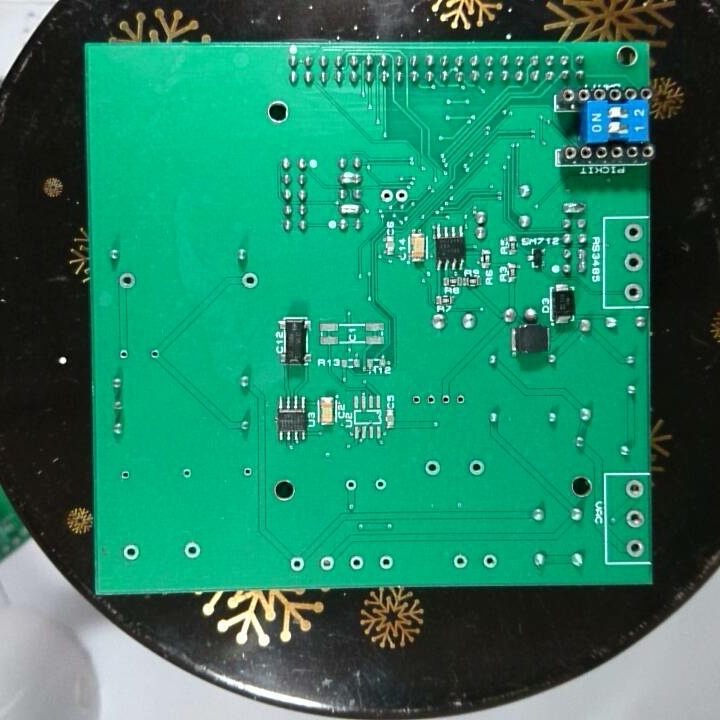F: (622, 506, 647, 532), (622, 535, 647, 560), (115, 269, 139, 293), (622, 279, 645, 304), (179, 540, 204, 563), (622, 222, 646, 245), (622, 250, 645, 274), (622, 478, 645, 502), (285, 553, 308, 577), (119, 540, 142, 564), (239, 267, 260, 292), (465, 455, 487, 478), (422, 457, 443, 480), (451, 551, 471, 574), (317, 551, 334, 577), (376, 552, 397, 572), (479, 550, 499, 570), (347, 554, 365, 574), (394, 184, 411, 205), (342, 475, 359, 495), (371, 475, 389, 493), (378, 185, 395, 204), (117, 467, 134, 484), (147, 345, 162, 364), (439, 390, 453, 410), (115, 346, 131, 363), (423, 393, 440, 408), (454, 391, 468, 409), (239, 463, 254, 479), (409, 392, 423, 408), (179, 466, 194, 480)
P: (574, 247, 591, 278), (560, 199, 589, 217), (336, 170, 365, 186), (338, 200, 365, 217)
